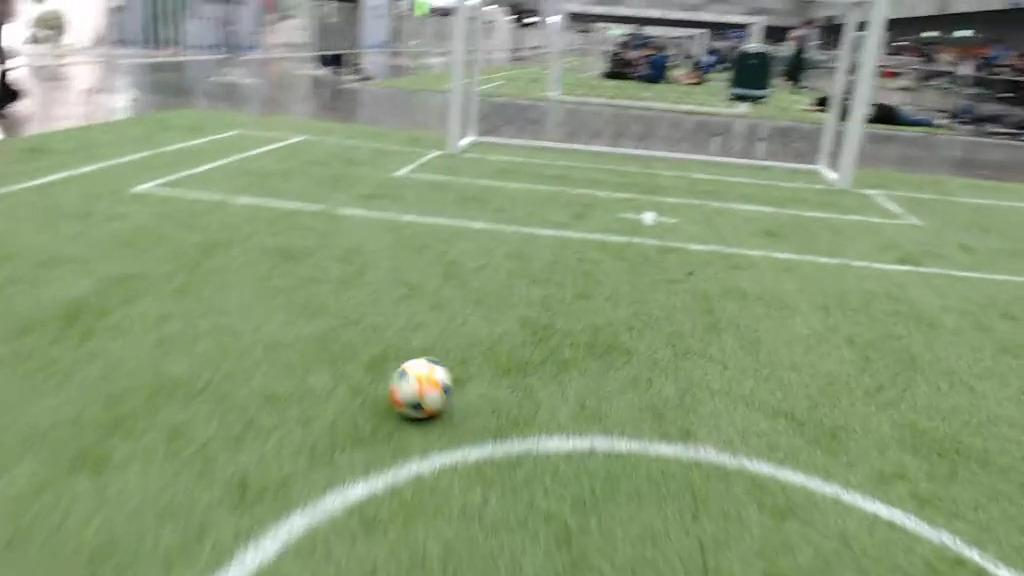ball: (391, 357, 452, 420)
